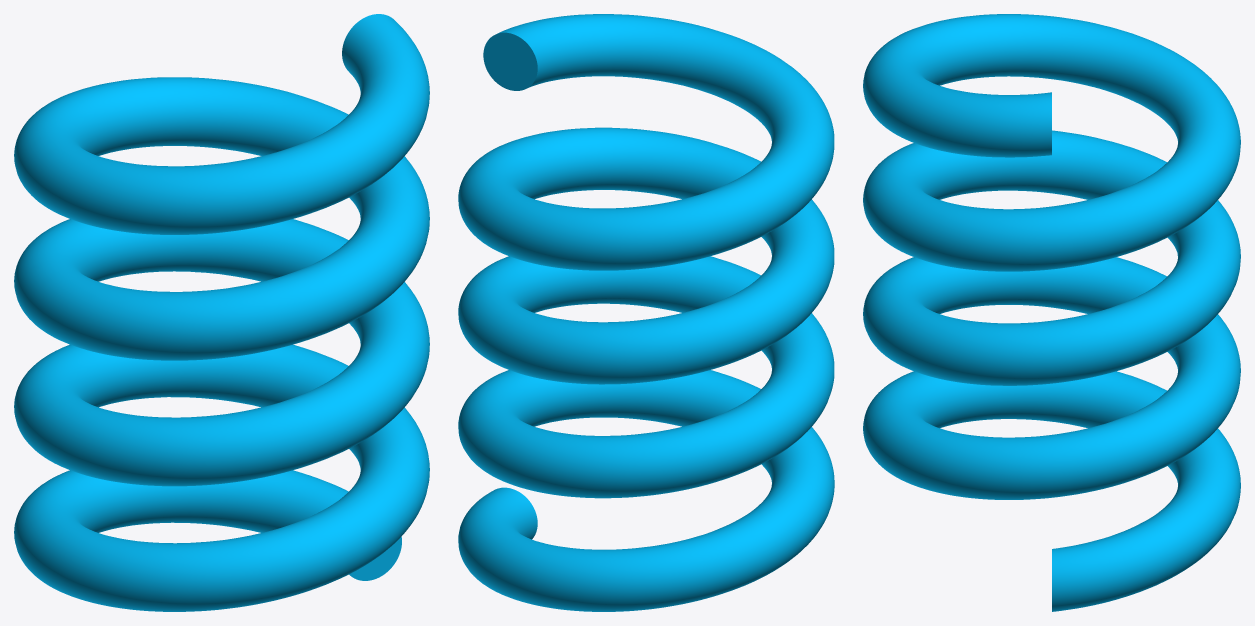
The model's file is solid_heliks_modeli.gltf.
3 renders of one model, left to right at view 1: azimuth 30°, elevation 25°; view 2: azimuth 150°, elevation 25°; view 3: azimuth 270°, elevation 25°, orthographic. The views are drawn at different scales.
Parts seen in each view (by area): view 1: Gövde; view 2: Gövde; view 3: Gövde.
Part boxes in pixels (box(x1,y1,x2,y2)): Gövde: box(14, 14, 429, 611); Gövde: box(458, 14, 834, 611); Gövde: box(863, 14, 1240, 611).
Size of the model in its own units: 0.06 by 0.09 by 0.06.
